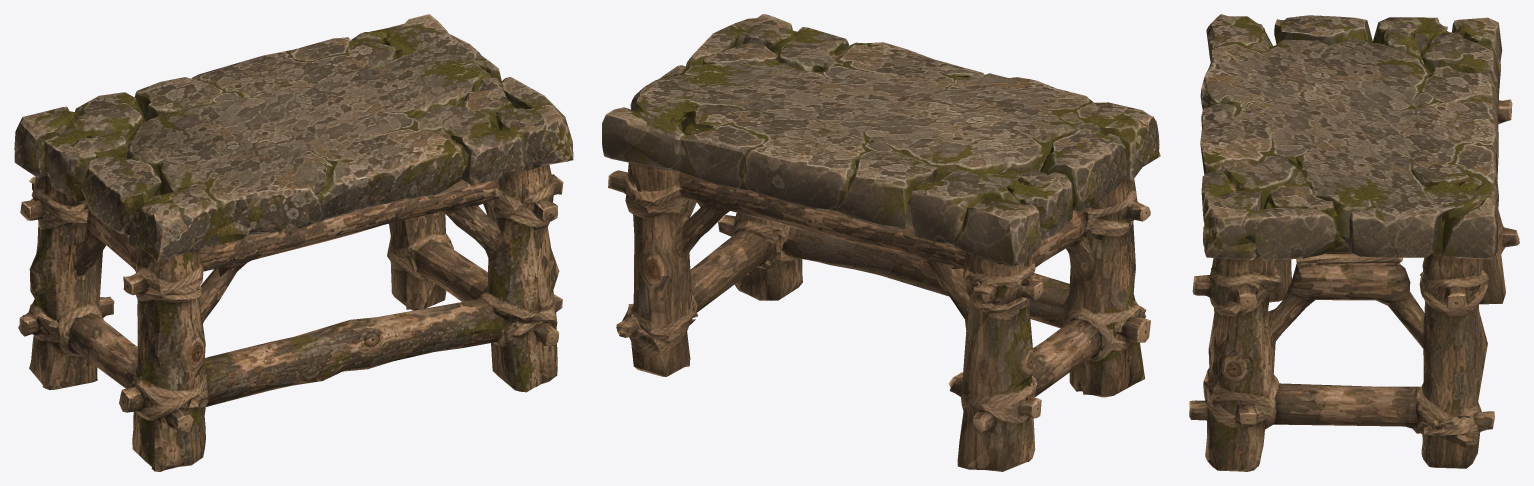
The model's file is workbench.glb.
The picture shows the model from 3 angles, left to right: view 1: azimuth 30°, elevation 25°; view 2: azimuth 150°, elevation 25°; view 3: azimuth 270°, elevation 25°; orthographic projection.
Parts seen in each view (by area): view 1: Mesh0; view 2: Mesh0; view 3: Mesh0.
Part boxes in pixels (left/top/right/bottom): Mesh0: left=14, top=14, right=573, bottom=471; Mesh0: left=602, top=14, right=1160, bottom=471; Mesh0: left=1189, top=14, right=1519, bottom=471.
Size of the model in its own units: 1 by 0.5839 by 0.6543.
Materials: 1 (1 with a texture image).
